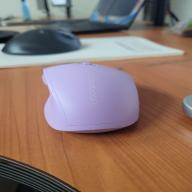mouse: (36, 56, 148, 138), (2, 23, 89, 61)
